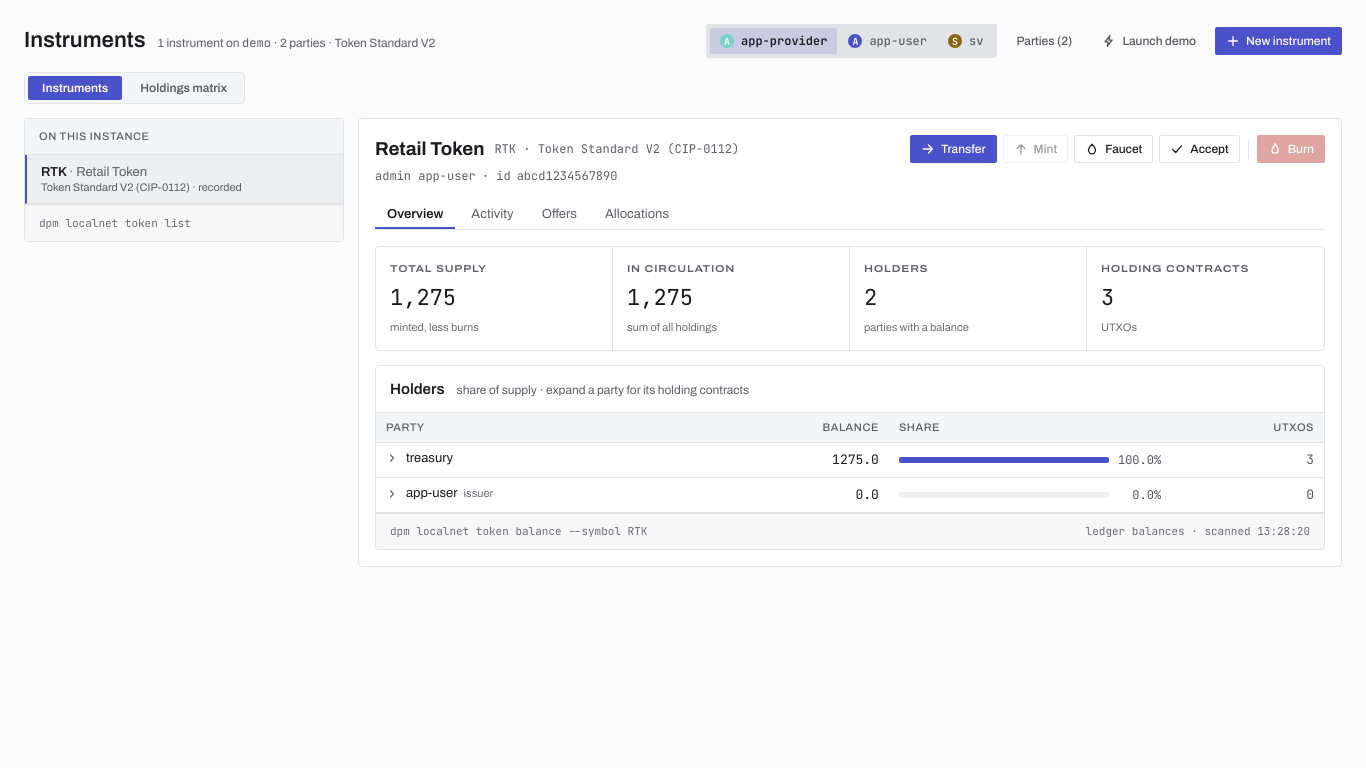
Scenario: TokensScreen › switches to the Holdings matrix lens and renders the pivot
Click the button "Holdings matrix": coordinates (184, 88) [126,76,241,100]
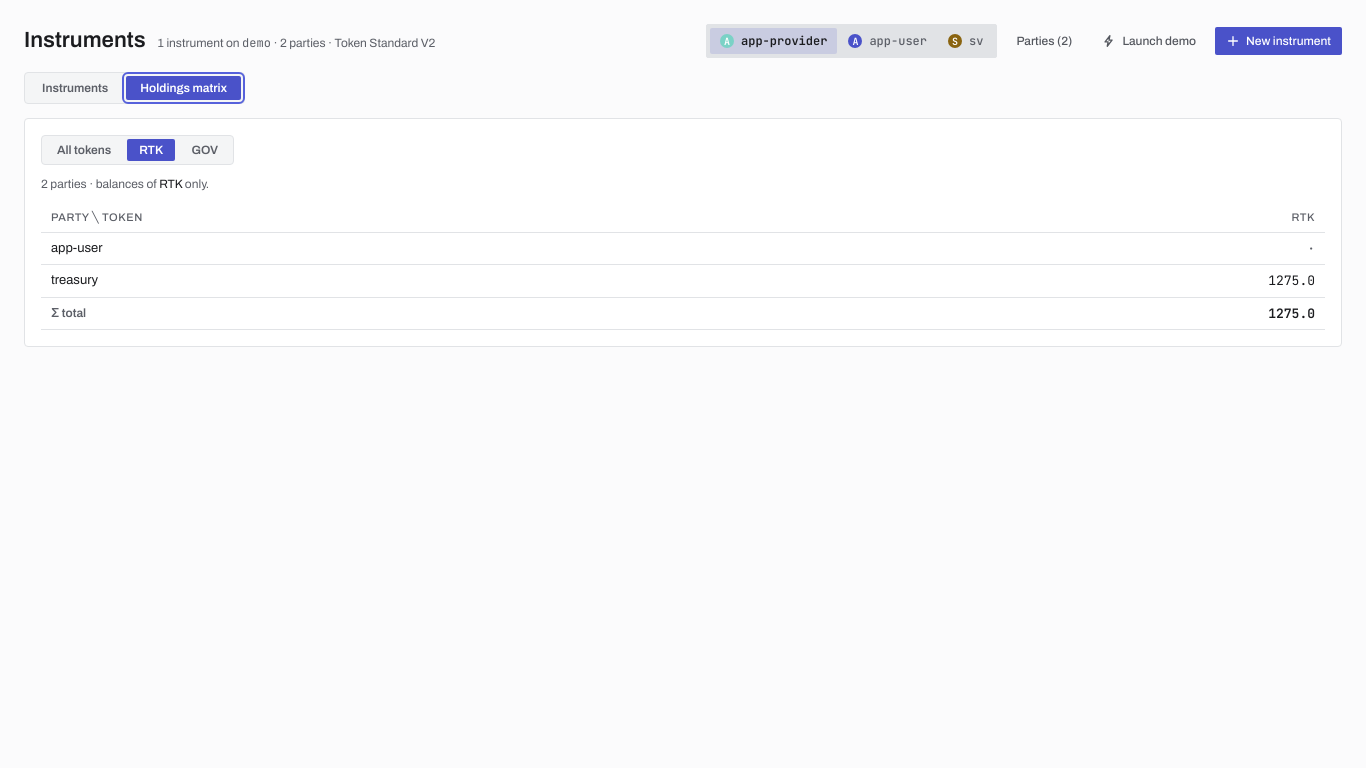
Expected: the text "1275.0" in the row of "treasury" is shown, [1268,272,1315,289]
Result: the text "Σ total" is shown at [41,297,845,330]
